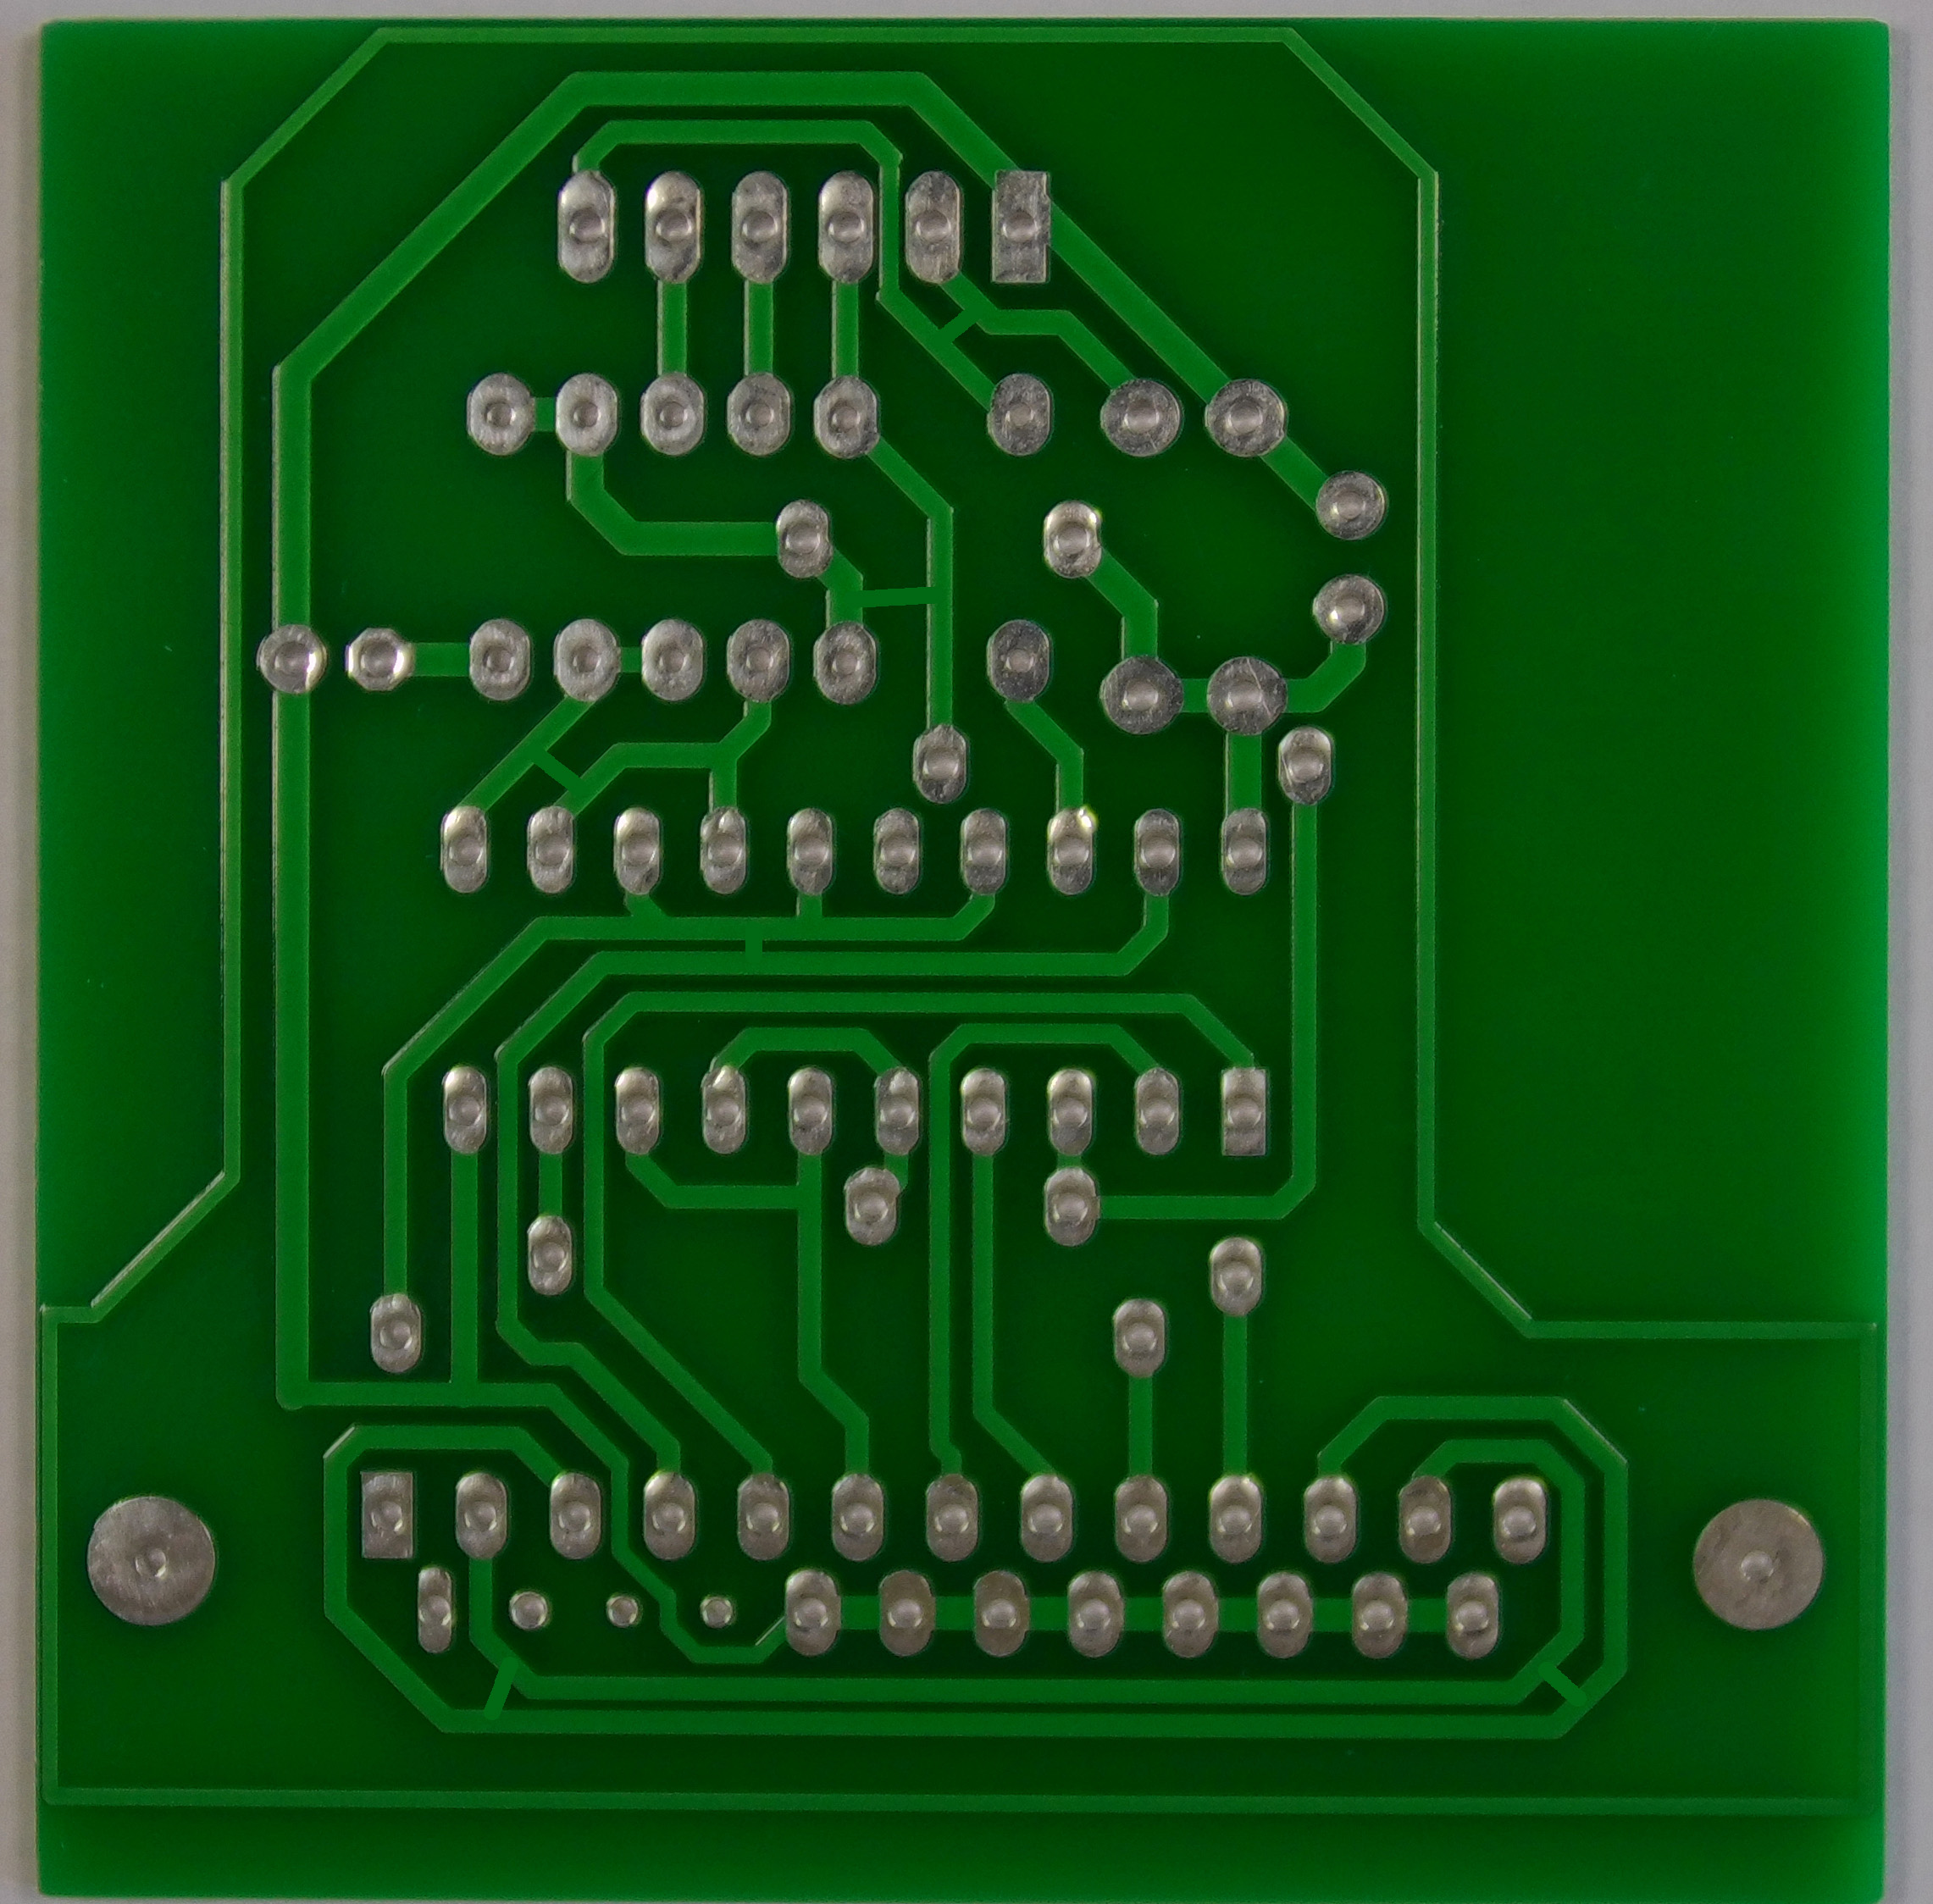short: (1510, 1636, 1620, 1741), (824, 565, 970, 635), (457, 1638, 555, 1739), (501, 734, 596, 816), (911, 296, 1005, 359), (717, 908, 783, 984)
